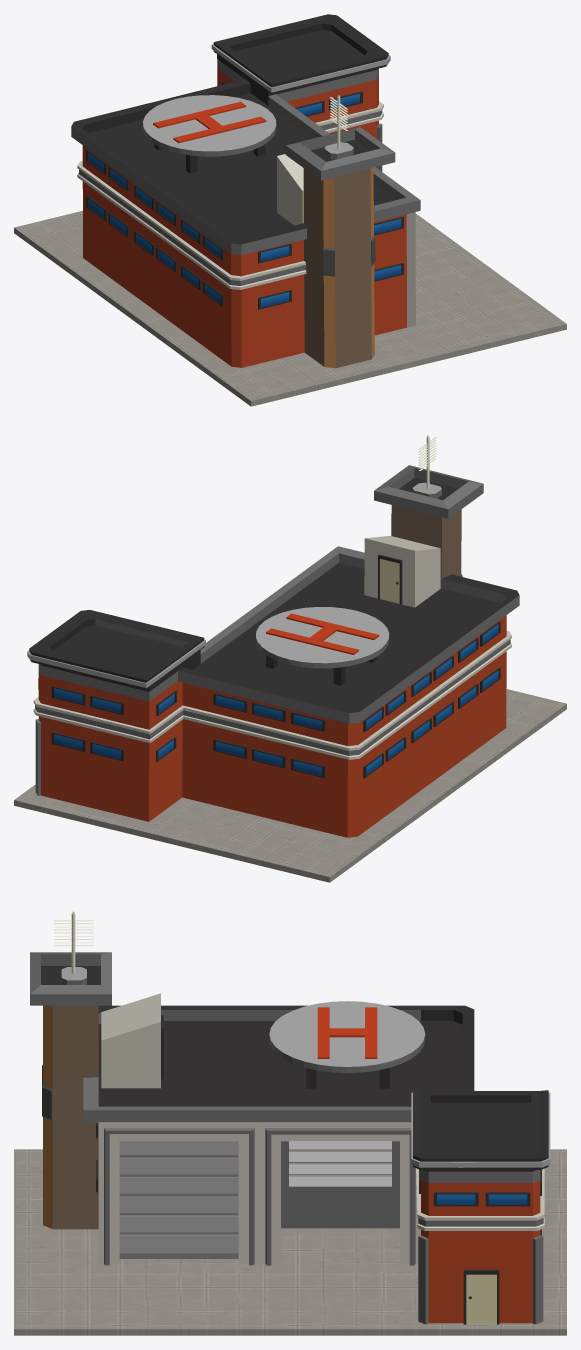
The model's file is Fire_Station_01.fbx.
3 renders of one model, top to bottom at view 1: azimuth 30°, elevation 25°; view 2: azimuth 150°, elevation 25°; view 3: azimuth 270°, elevation 25°, orthographic. The views are drawn at different scales.
Visible parts, largest first — view 1: Fire_Station_01; view 2: Fire_Station_01; view 3: Fire_Station_01.
Boxes of the visible parts, bbox=[...] form: Fire_Station_01: bbox=[14, 14, 566, 406]; Fire_Station_01: bbox=[14, 435, 566, 882]; Fire_Station_01: bbox=[14, 911, 566, 1335].
Bounding box in the file's own units: 3000 × 2403 × 3900.
